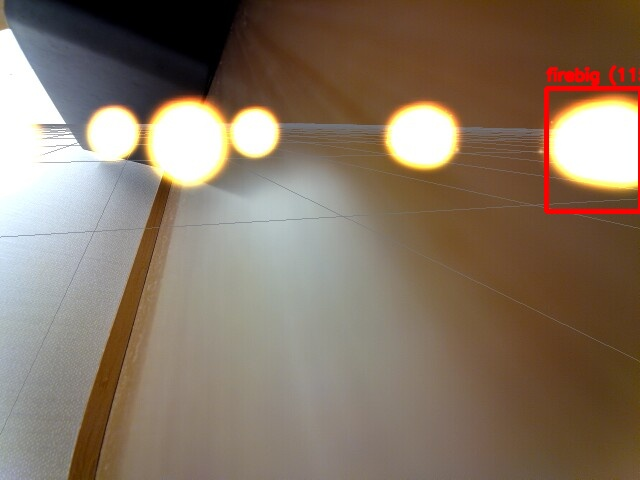firebig: (546, 88, 640, 211)
